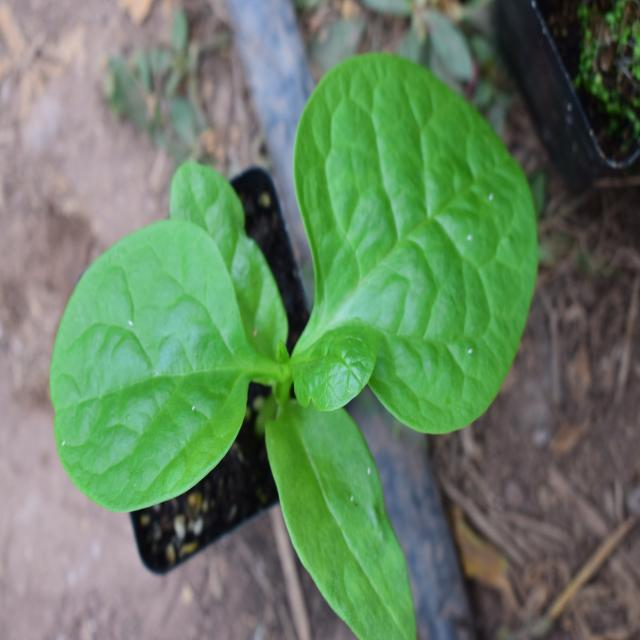Ceylon spinach: (46, 64, 574, 596)
